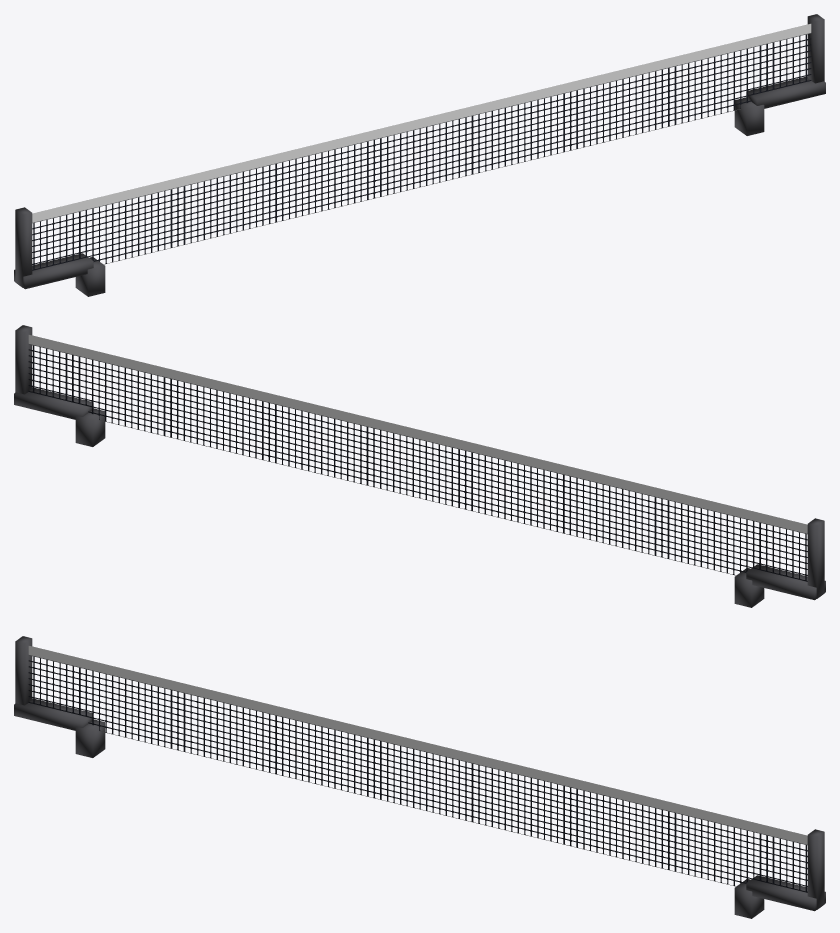
Rendered from pingpong_net.glb.
3 renders of one model, top to bottom at view 1: azimuth 30°, elevation 25°; view 2: azimuth 150°, elevation 25°; view 3: azimuth 330°, elevation 25°, orthographic.
Visible parts, largest first — view 1: net_mesh, net_post_4, net_post_1, net_post_0, net_post_3, net_post_5, net_post_2; view 2: net_mesh, net_post_4, net_post_1, net_post_0, net_post_3, net_post_5, net_post_2; view 3: net_mesh, net_post_1, net_post_4, net_post_3, net_post_0, net_post_2, net_post_5.
Part boxes in pixels (left/top/right/bottom): net_mesh: left=32, top=23, right=811, bottom=270; net_post_4: left=746, top=76, right=825, bottom=108; net_post_1: left=14, top=253, right=93, bottom=289; net_post_0: left=15, top=207, right=32, bottom=287; net_post_3: left=807, top=14, right=824, bottom=83; net_post_5: left=734, top=97, right=764, bottom=135; net_post_2: left=75, top=257, right=105, bottom=296; net_mesh: left=28, top=334, right=807, bottom=581; net_post_4: left=14, top=387, right=93, bottom=419; net_post_1: left=746, top=564, right=825, bottom=600; net_post_0: left=807, top=518, right=824, bottom=598; net_post_3: left=15, top=325, right=32, bottom=394; net_post_5: left=75, top=408, right=105, bottom=446; net_post_2: left=734, top=568, right=764, bottom=607; net_mesh: left=28, top=645, right=807, bottom=892; net_post_1: left=14, top=698, right=92, bottom=730; net_post_4: left=746, top=875, right=825, bottom=911; net_post_3: left=807, top=829, right=824, bottom=909; net_post_0: left=15, top=636, right=32, bottom=705; net_post_2: left=75, top=719, right=105, bottom=757; net_post_5: left=734, top=879, right=764, bottom=918.
Size of the model in its own units: 1.87 by 0.2125 by 0.05.
2 materials, 1 textured.
